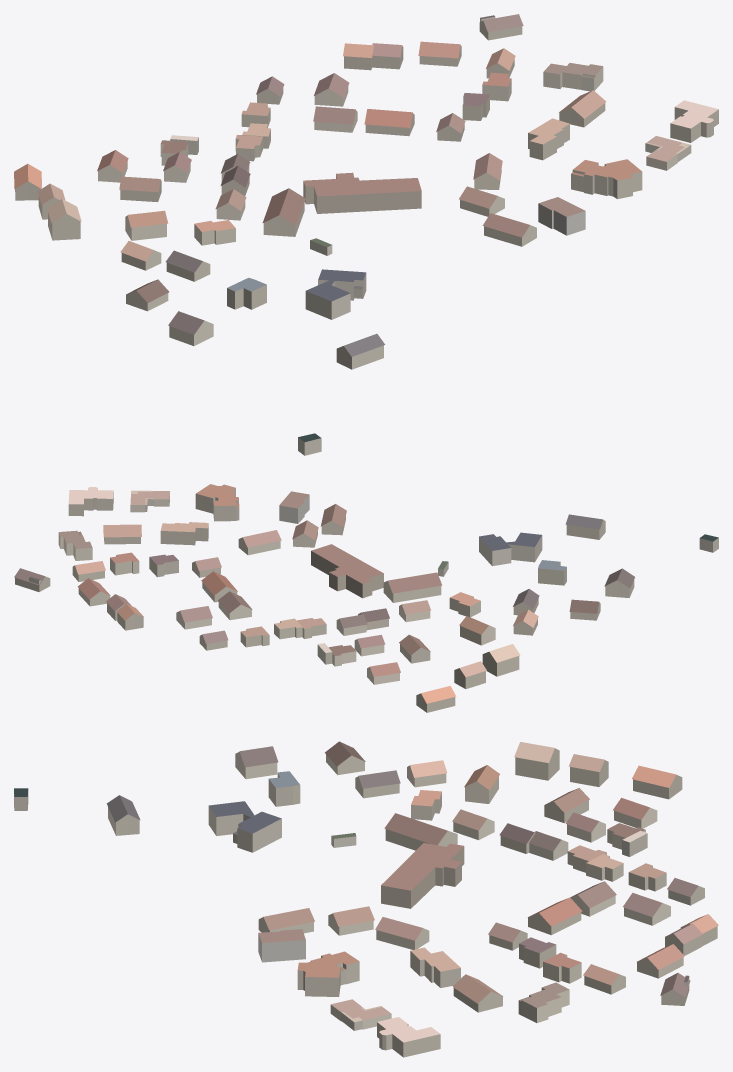
3 views of the same model, one above another, from view 1: azimuth 30°, elevation 25°; view 2: azimuth 150°, elevation 25°; view 3: azimuth 270°, elevation 25° (orthographic). The views are drawn at different scales.
Parts seen in each view (by area): view 1: tuile; view 2: tuile; view 3: tuile.
Boxes of the visible parts, <box> form: tuile: <box>14,14,718,455</box>; tuile: <box>14,484,718,712</box>; tuile: <box>14,741,718,1057</box>.
Size of the model in its own units: 258 by 31.68 by 246.
